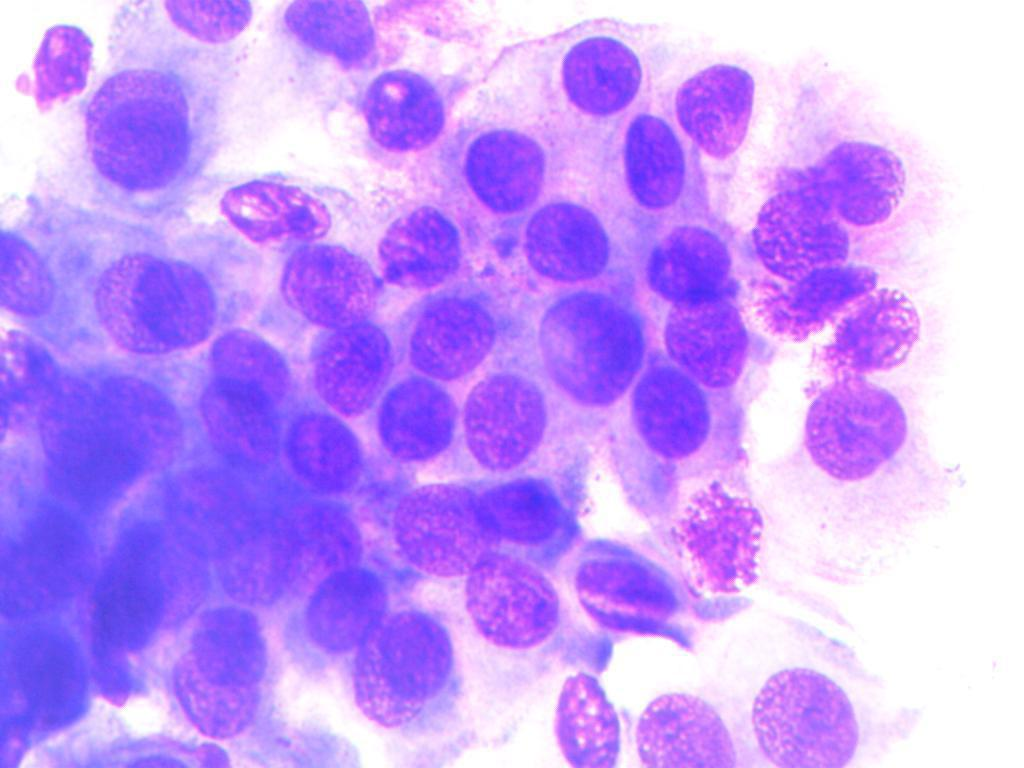epithelial: (74, 63, 214, 196), (795, 374, 913, 512), (535, 289, 646, 410), (347, 55, 463, 170), (83, 239, 188, 366), (654, 280, 759, 403), (212, 166, 356, 255), (83, 353, 183, 481), (386, 477, 505, 583), (567, 543, 686, 644), (630, 666, 749, 767), (748, 666, 867, 767), (671, 488, 778, 600), (6, 483, 94, 611), (156, 460, 263, 564), (540, 34, 668, 120), (457, 553, 561, 655), (633, 216, 740, 313), (293, 553, 390, 660), (746, 183, 850, 282), (672, 57, 772, 159), (33, 366, 119, 484), (529, 668, 631, 767), (185, 370, 283, 469), (163, 646, 273, 734), (102, 516, 172, 653), (275, 239, 375, 334), (15, 9, 106, 111), (203, 510, 299, 606), (453, 122, 551, 215), (277, 500, 369, 599), (460, 369, 549, 471), (810, 134, 908, 226), (303, 320, 393, 420), (376, 204, 474, 295), (402, 288, 500, 379), (281, 0, 398, 71), (12, 620, 87, 730), (275, 404, 368, 491), (375, 604, 458, 700), (180, 607, 282, 684), (831, 284, 920, 372), (375, 378, 463, 467), (526, 202, 615, 289), (624, 370, 711, 459), (130, 253, 215, 343), (469, 476, 581, 541), (0, 214, 61, 324), (619, 117, 682, 212), (158, 1, 253, 47)
